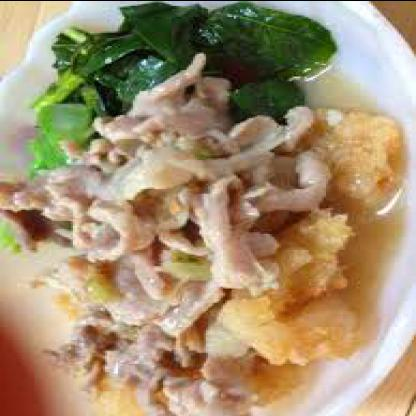Laadna: (13, 10, 414, 406)
